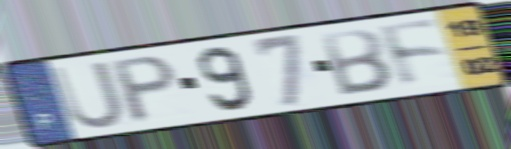7: (249, 30, 308, 110)
9: (197, 44, 255, 113)
B: (318, 26, 396, 98)
F: (375, 17, 451, 92)
P: (109, 53, 179, 127)
U: (47, 58, 127, 132)
